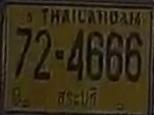2: (34, 29, 52, 79)
4: (66, 28, 83, 80)
6: (124, 31, 142, 81), (105, 31, 122, 80), (85, 31, 102, 80)
7: (15, 27, 31, 76)
SRI: (52, 84, 100, 109)
